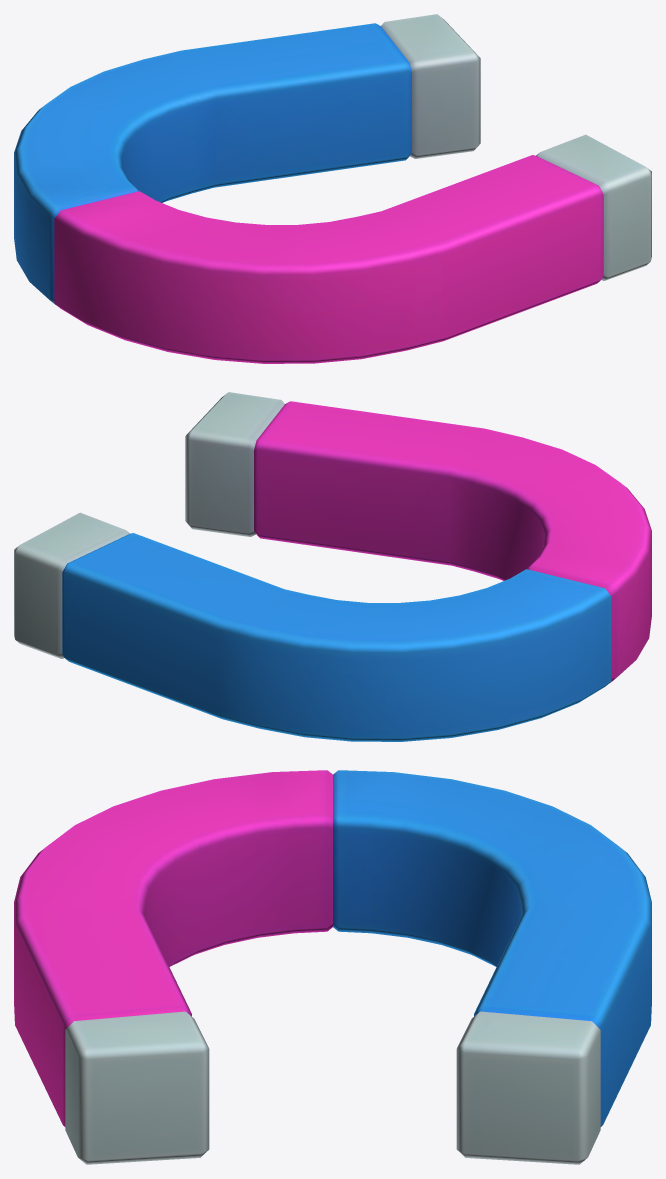
The model's file is Magnet.fbx.
3 views of the same model, one above another, from view 1: azimuth 30°, elevation 25°; view 2: azimuth 150°, elevation 25°; view 3: azimuth 270°, elevation 25° (orthographic). The views are drawn at different scales.
Visible parts, largest first — view 1: PRP_S04_Magnet_0; view 2: PRP_S04_Magnet_0; view 3: PRP_S04_Magnet_0.
Part boxes in pixels (x1,y1,x2,y2): PRP_S04_Magnet_0: (14,14,651,363); PRP_S04_Magnet_0: (14,392,651,741); PRP_S04_Magnet_0: (14,770,651,1164).
Bounding box in the file's own units: 16.67 × 3.17 × 15.73.
